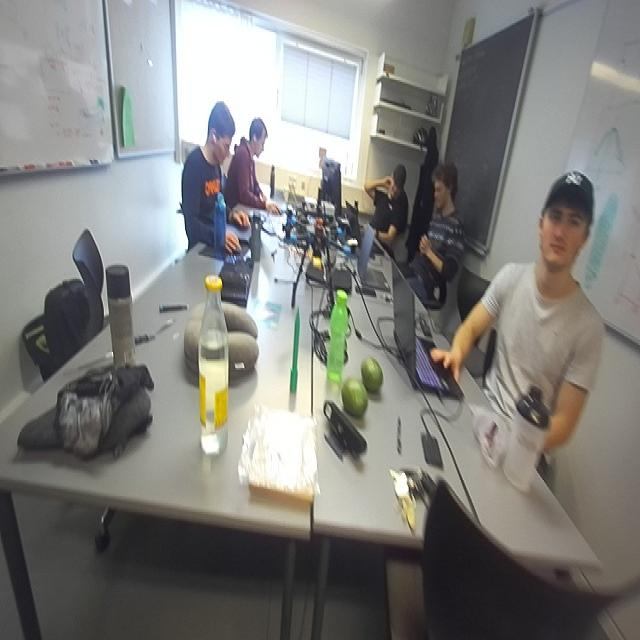probe: (290, 309, 298, 393)
